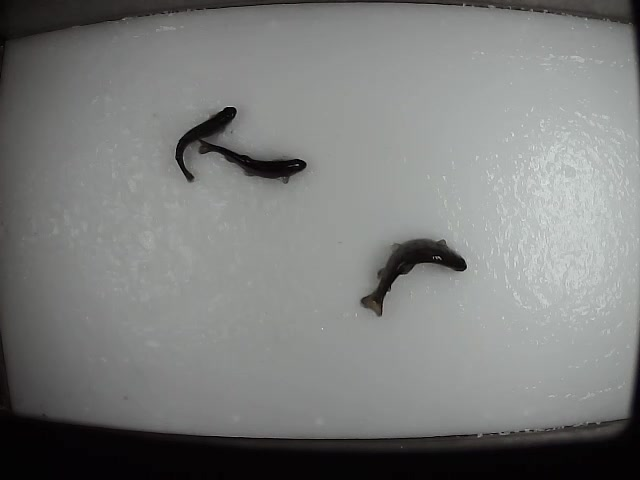Fish: (360, 238, 467, 316), (197, 138, 307, 183), (175, 107, 237, 182)
